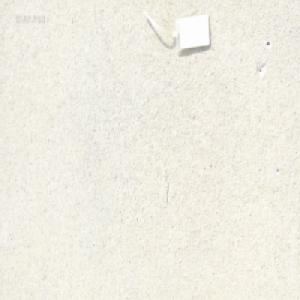LuggageTag: (138, 6, 211, 53)
